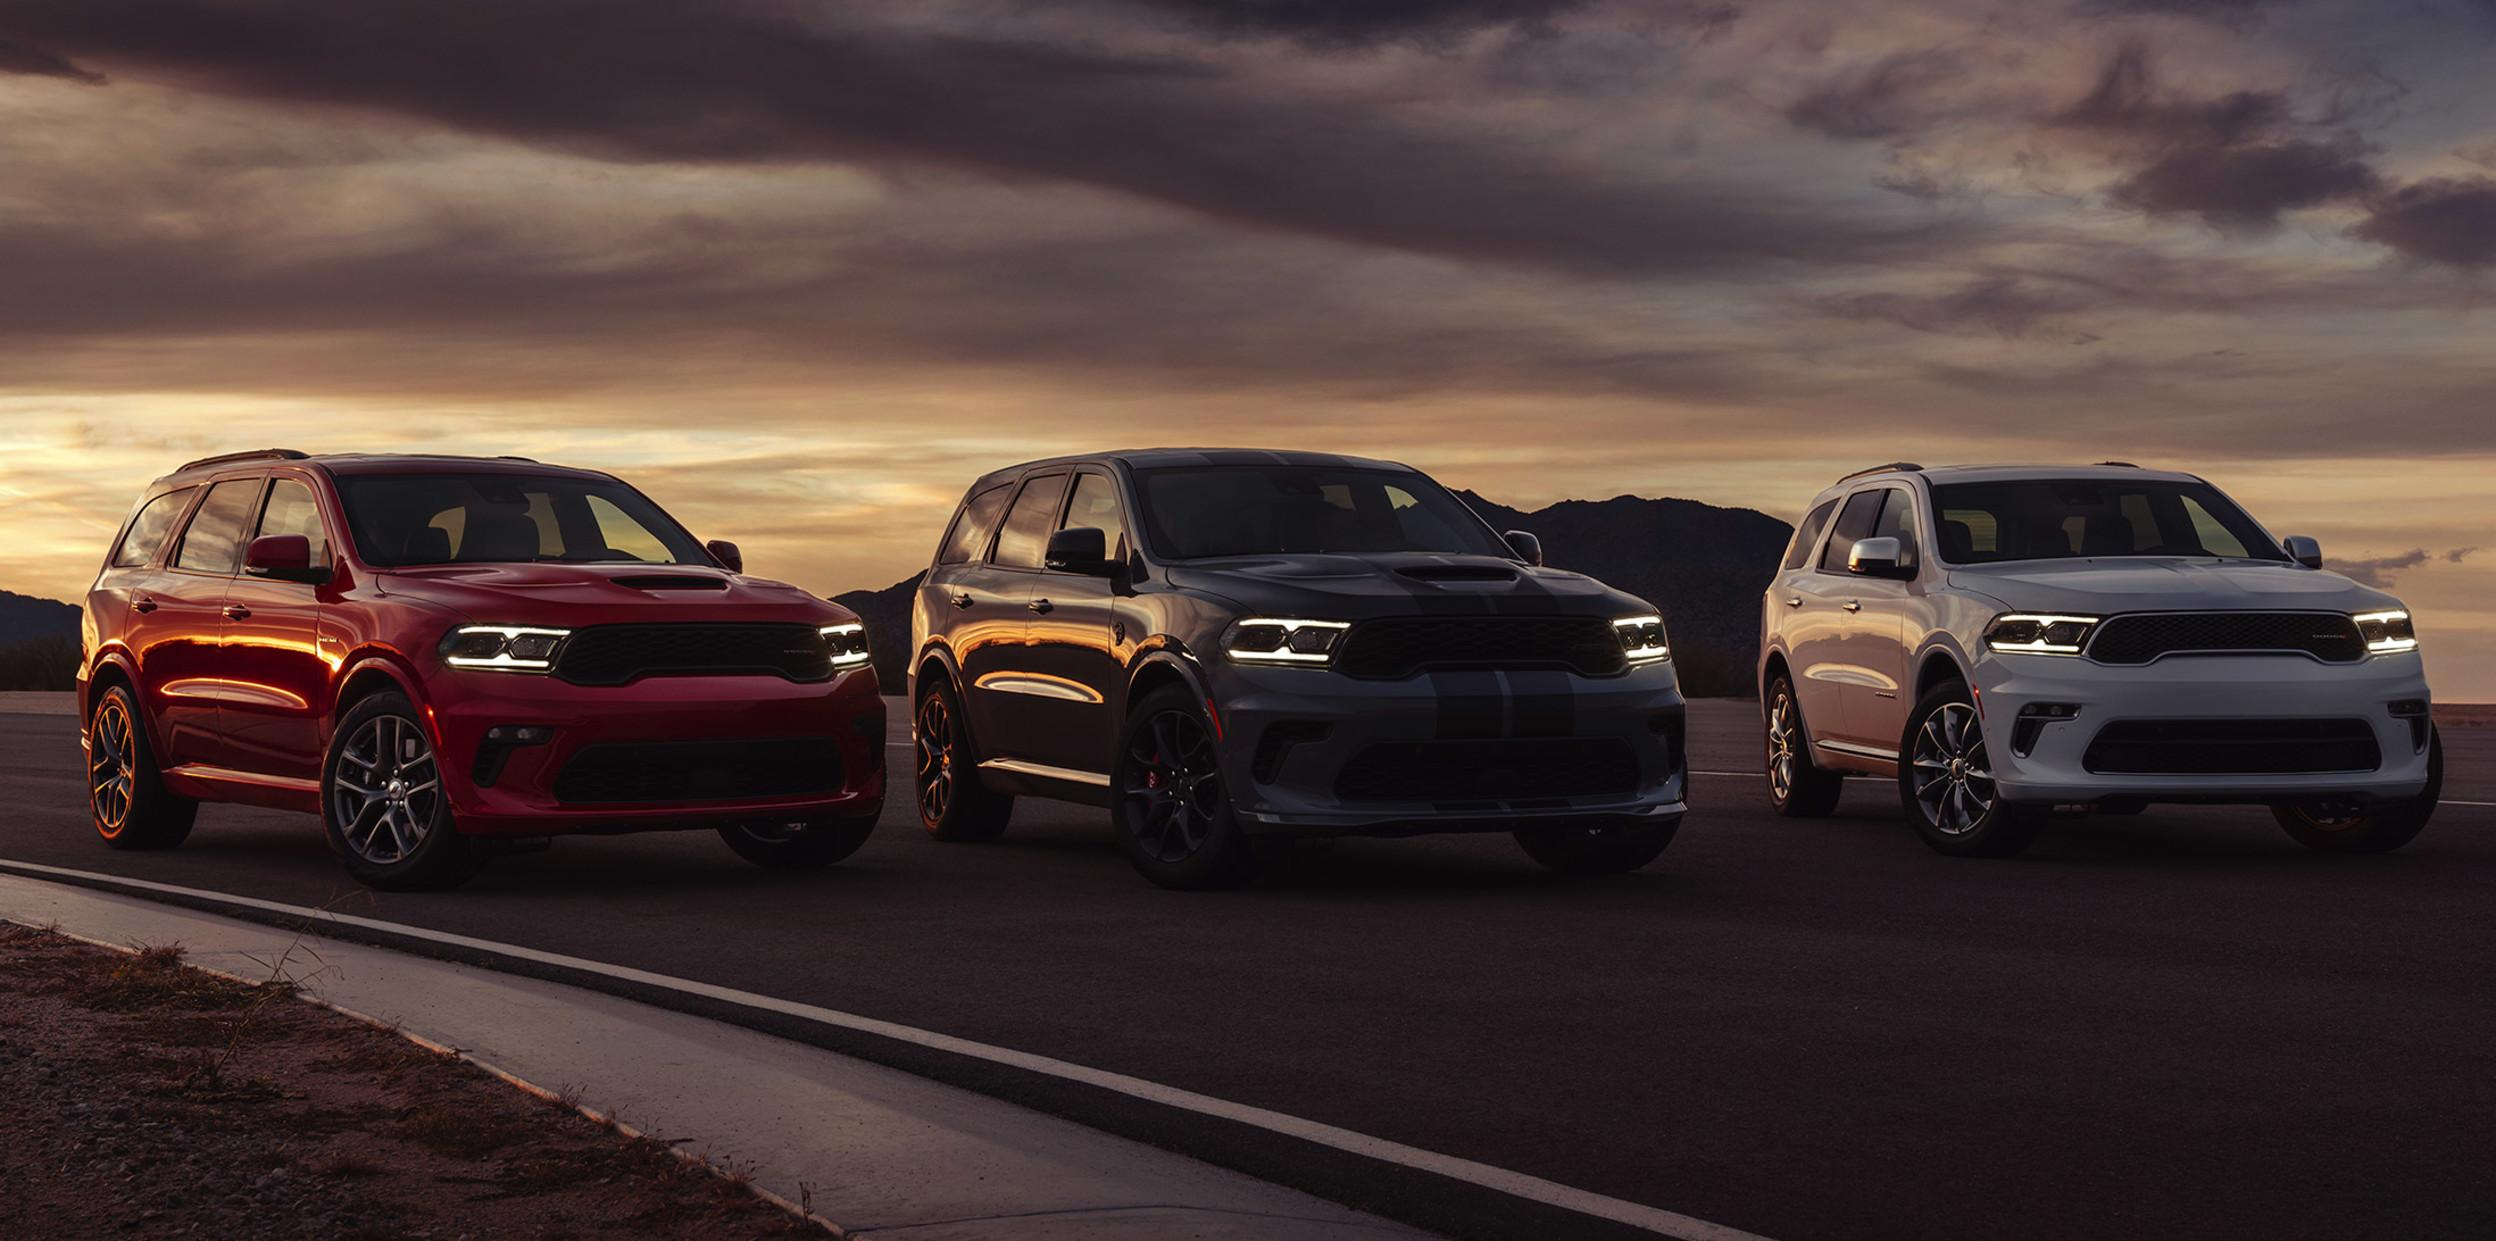car: (906, 434, 1698, 875), (84, 441, 883, 862), (1764, 447, 2455, 854)
